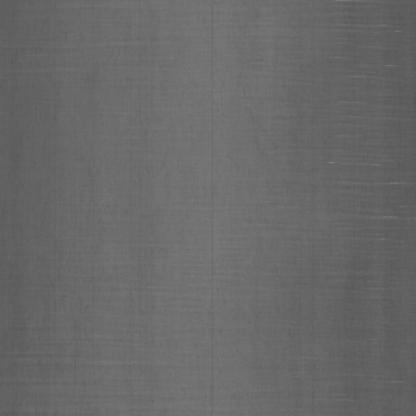waist_folding: (316, 34, 394, 337)
